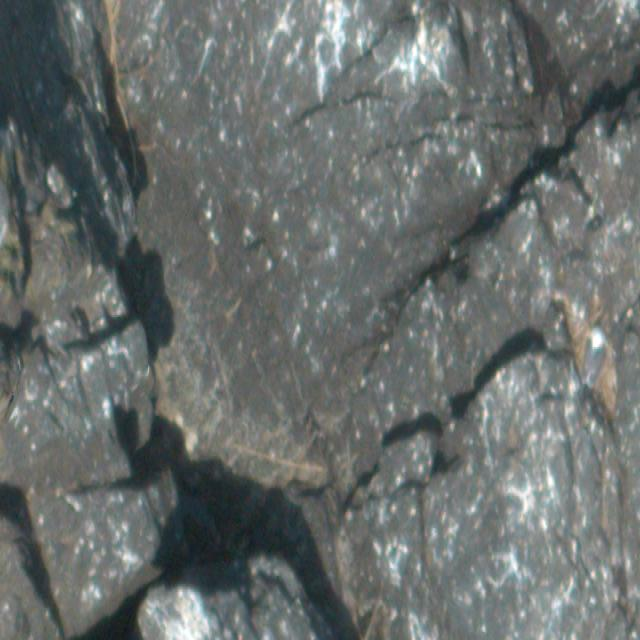umineko: (584, 326, 606, 384)
